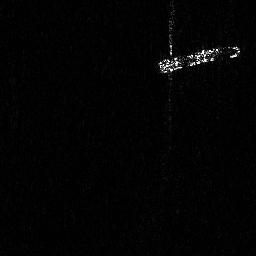ship: (155, 42, 241, 76)
